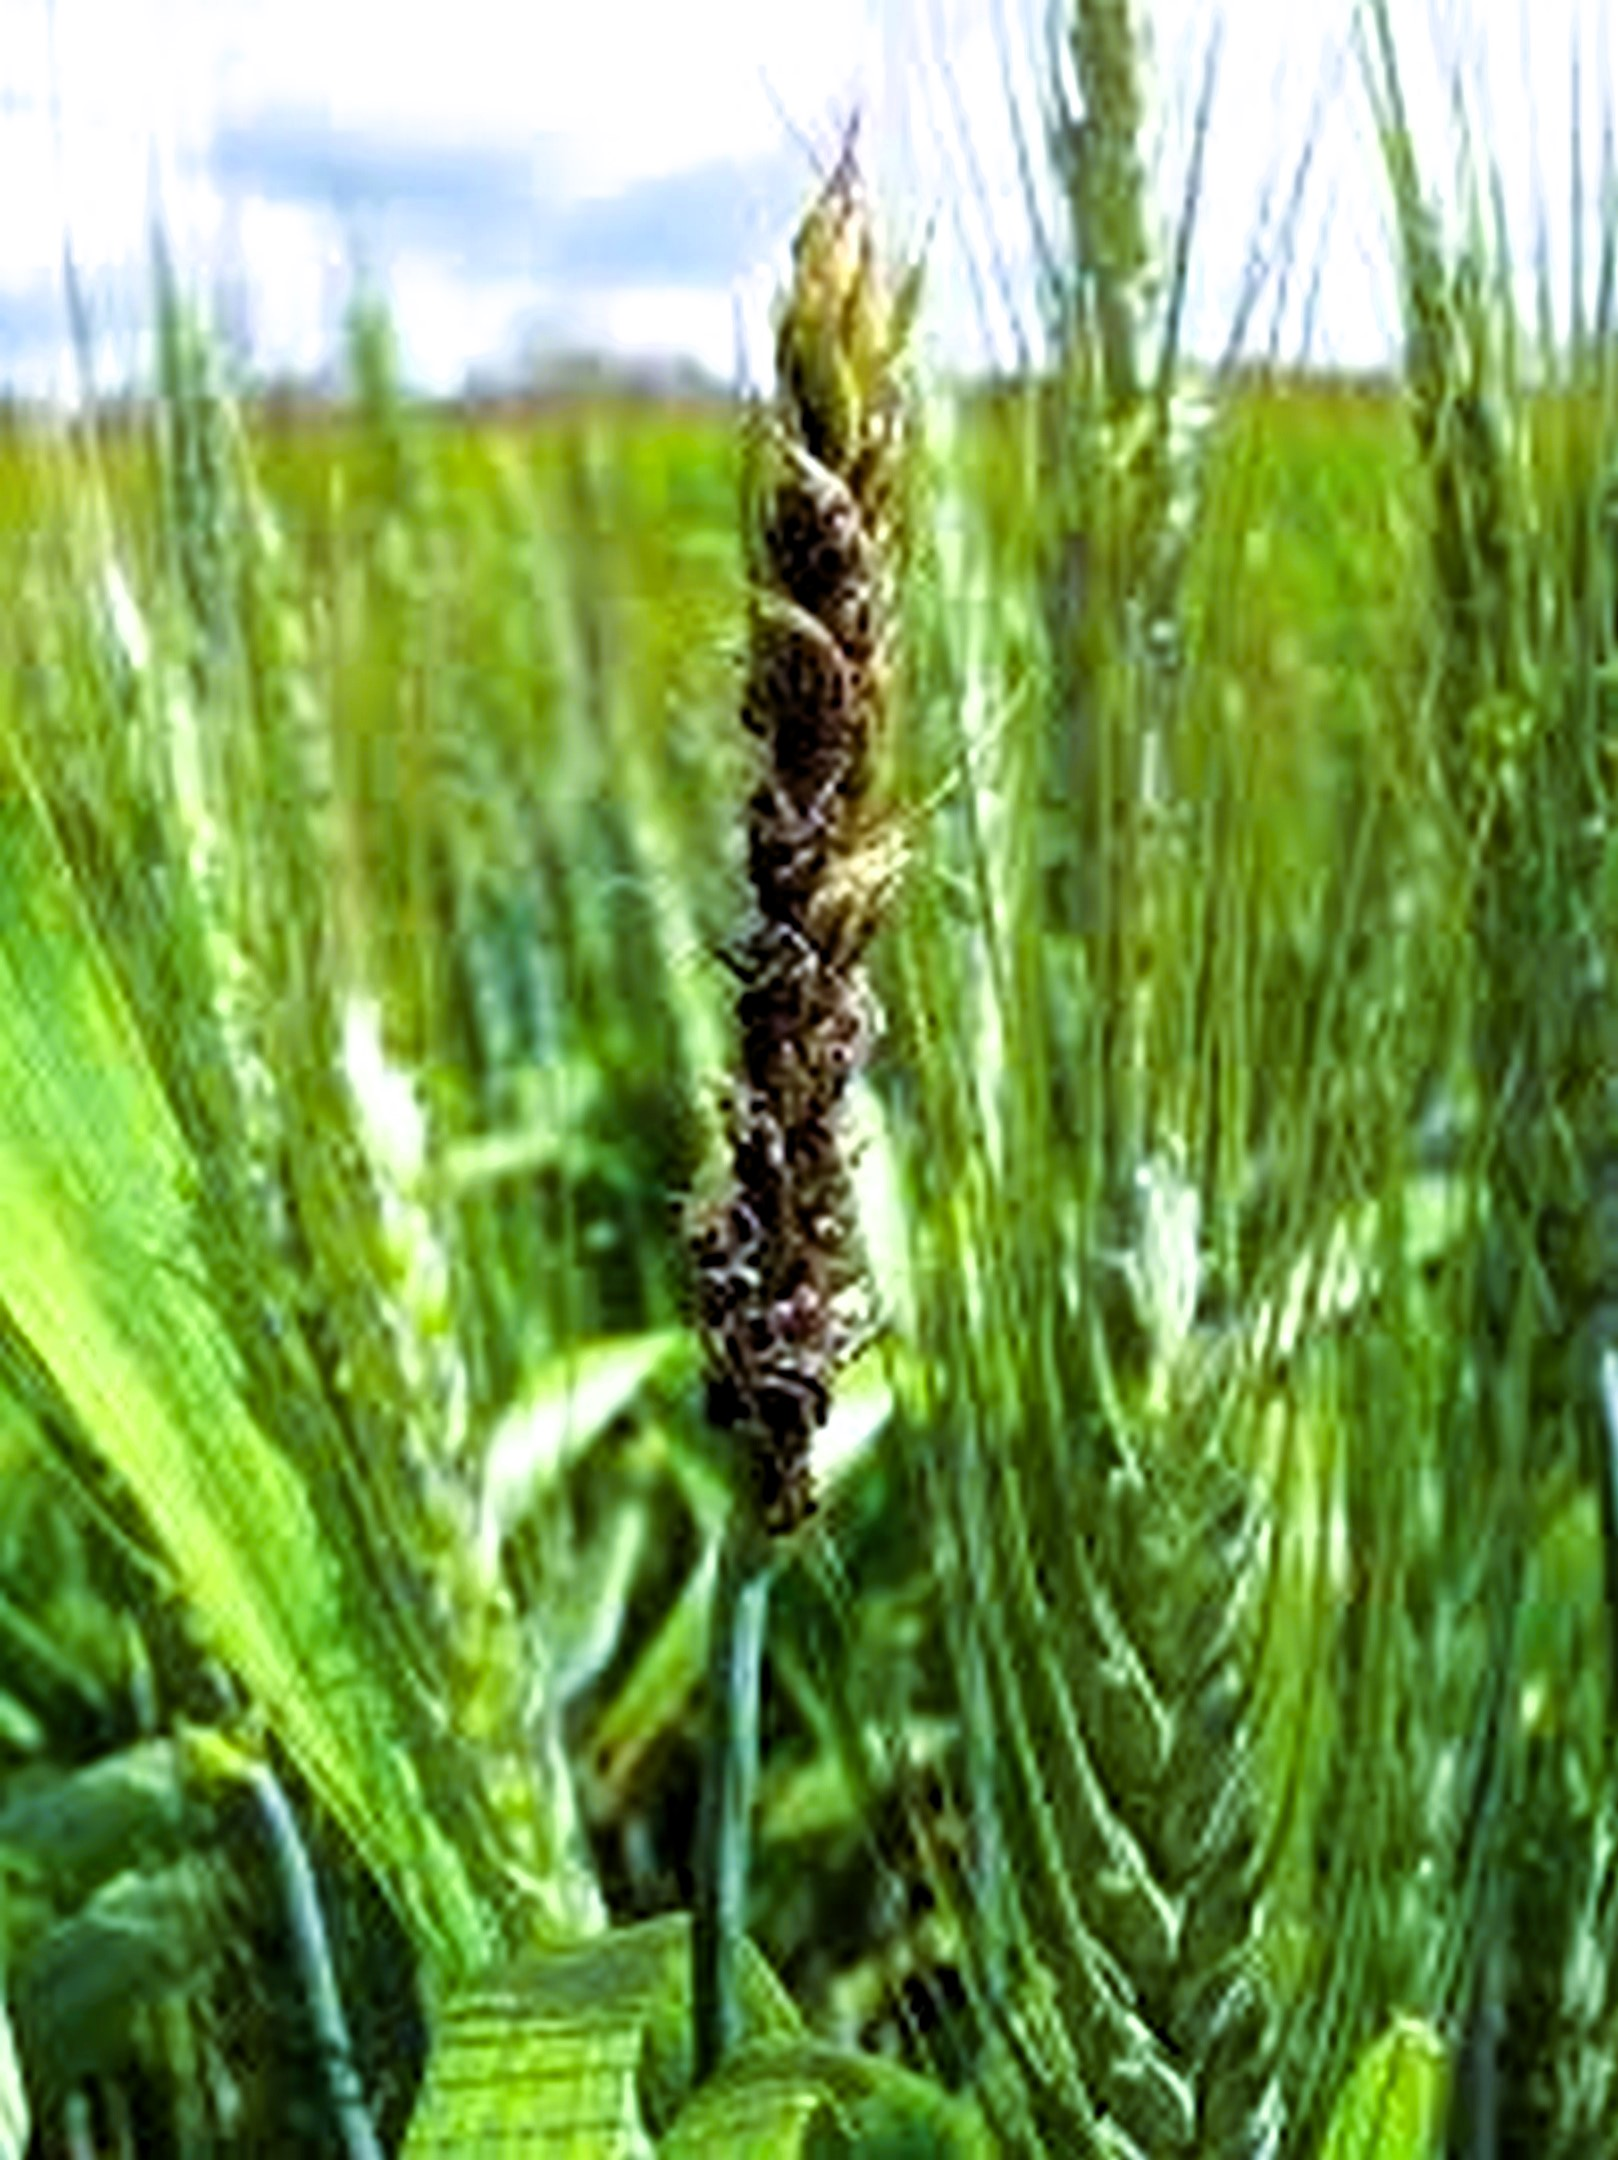Wheat Loose Smut: (682, 241, 970, 1077)
